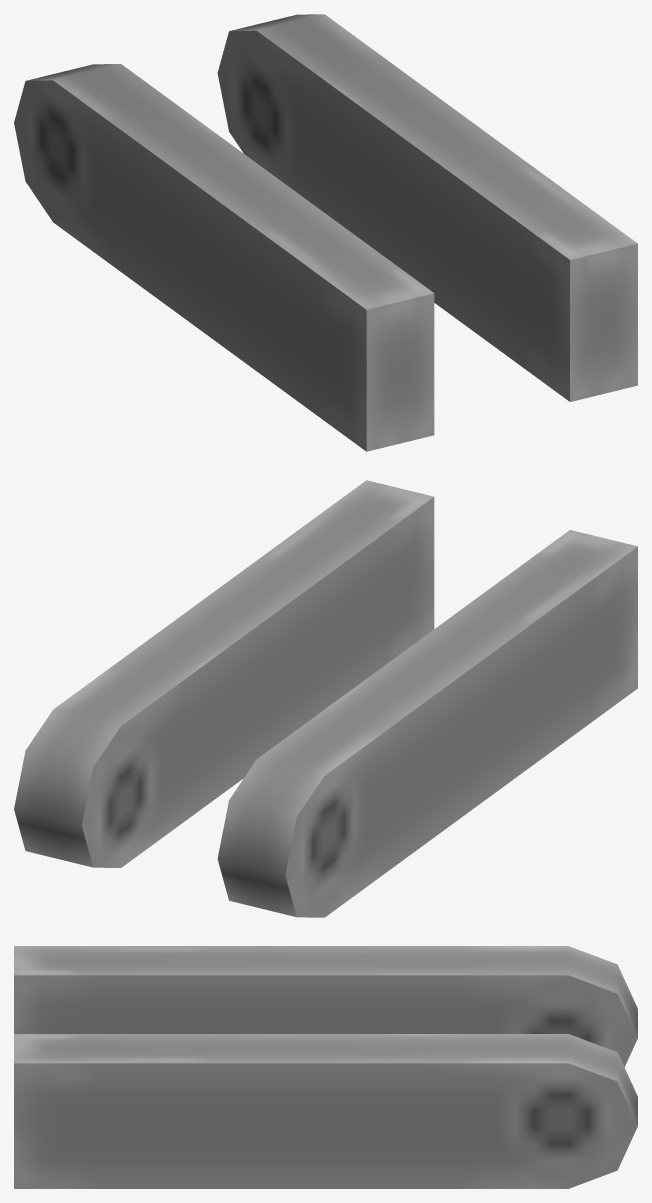
Rendered from octans_solar_srf_2_base_centre.obj.
3 views of the same model, one above another, from view 1: azimuth 30°, elevation 25°; view 2: azimuth 150°, elevation 25°; view 3: azimuth 270°, elevation 25° (orthographic). The views are drawn at different scales.
Parts seen in each view (by area): view 1: hinge; view 2: hinge; view 3: hinge.
Boxes of the visible parts, x1=… form: hinge: x1=14, y1=14, x2=637, y2=451; hinge: x1=14, y1=480, x2=637, y2=917; hinge: x1=14, y1=946, x2=637, y2=1188.
Size of the model in its own units: 0.05 by 0.025 by 0.1125.
1 material, 1 textured.
